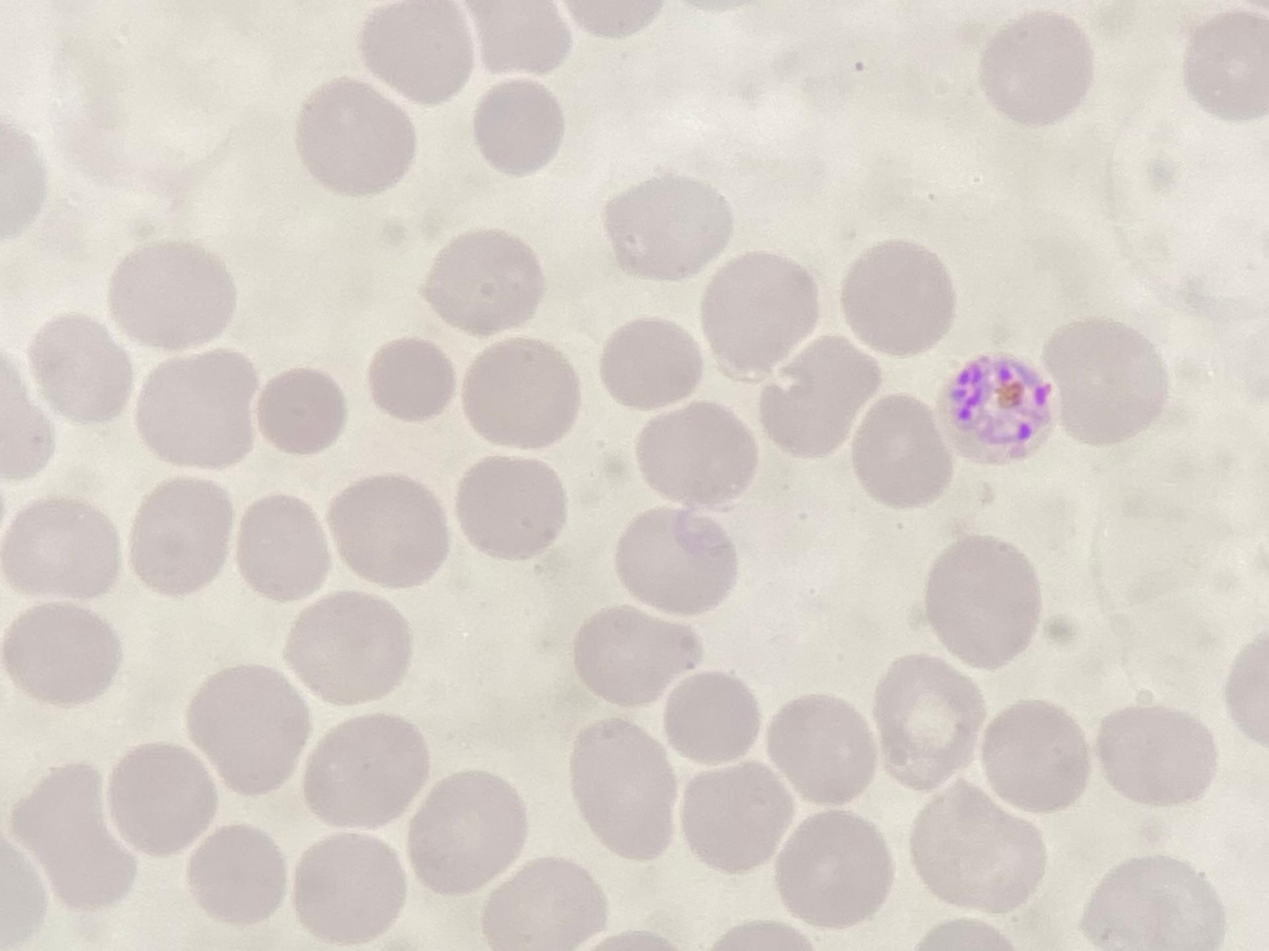Infected: (937, 351, 1056, 465)
Uninfected: (11, 760, 137, 910), (909, 784, 1046, 915), (184, 663, 311, 798), (1042, 317, 1167, 445), (567, 719, 680, 860), (299, 712, 430, 832), (133, 348, 262, 469), (924, 535, 1040, 667), (284, 588, 416, 704), (871, 654, 985, 787), (757, 334, 880, 457), (405, 770, 527, 894), (324, 473, 452, 590), (294, 76, 418, 196), (698, 250, 818, 374), (108, 239, 239, 350), (773, 808, 895, 927), (422, 228, 549, 337), (614, 502, 738, 613), (460, 338, 582, 450), (1078, 856, 1223, 950), (840, 238, 956, 355), (129, 476, 240, 598), (601, 175, 731, 279), (981, 7, 1097, 122), (106, 741, 220, 858), (634, 399, 756, 508), (2, 599, 123, 708), (679, 759, 794, 873), (2, 493, 123, 601), (291, 832, 409, 942), (572, 605, 699, 706), (1094, 702, 1215, 808), (455, 453, 572, 562), (767, 691, 878, 804), (980, 699, 1089, 813), (27, 311, 135, 423), (357, 0, 471, 106), (849, 392, 952, 509), (477, 855, 601, 949), (185, 822, 291, 927), (234, 489, 334, 599), (660, 669, 761, 766), (599, 317, 703, 409), (1183, 8, 1269, 116), (472, 79, 566, 176), (255, 365, 348, 454), (467, 1, 573, 78), (368, 335, 459, 423)
